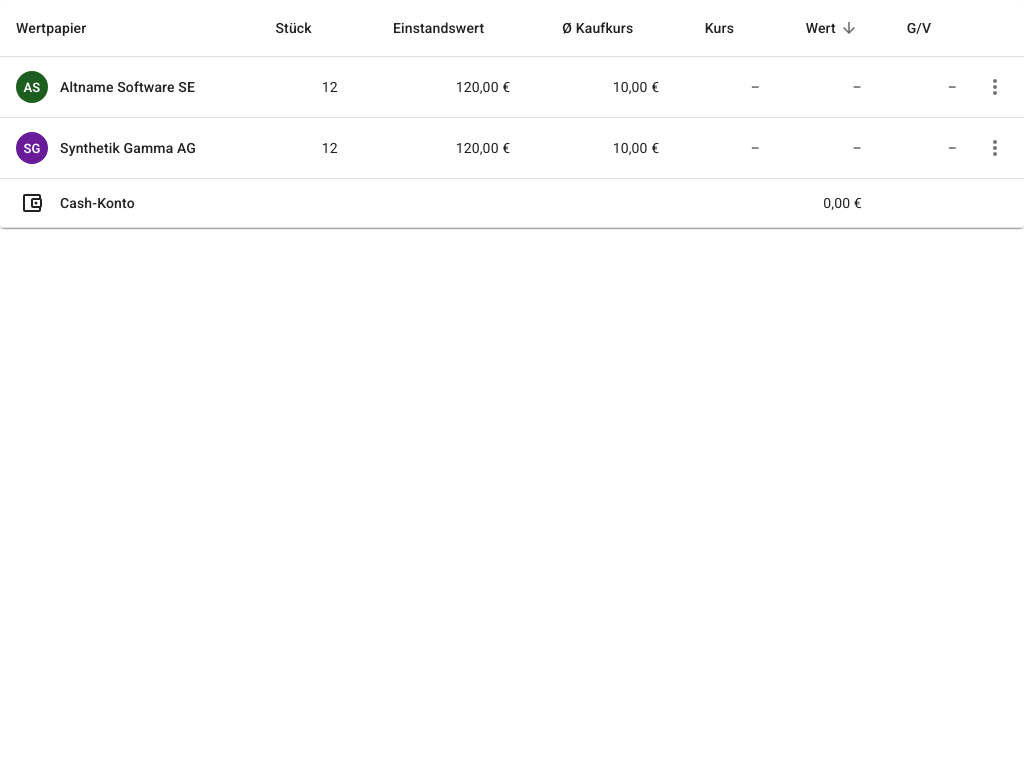
Test case: IsinChangeDialog from the Positions row menu › shows a field error under the matching field and keeps the input
Step 1. Click the button named "Aktionen für Altname Software SE" → (995, 87), box x1=973 y1=65 x2=1017 y2=109
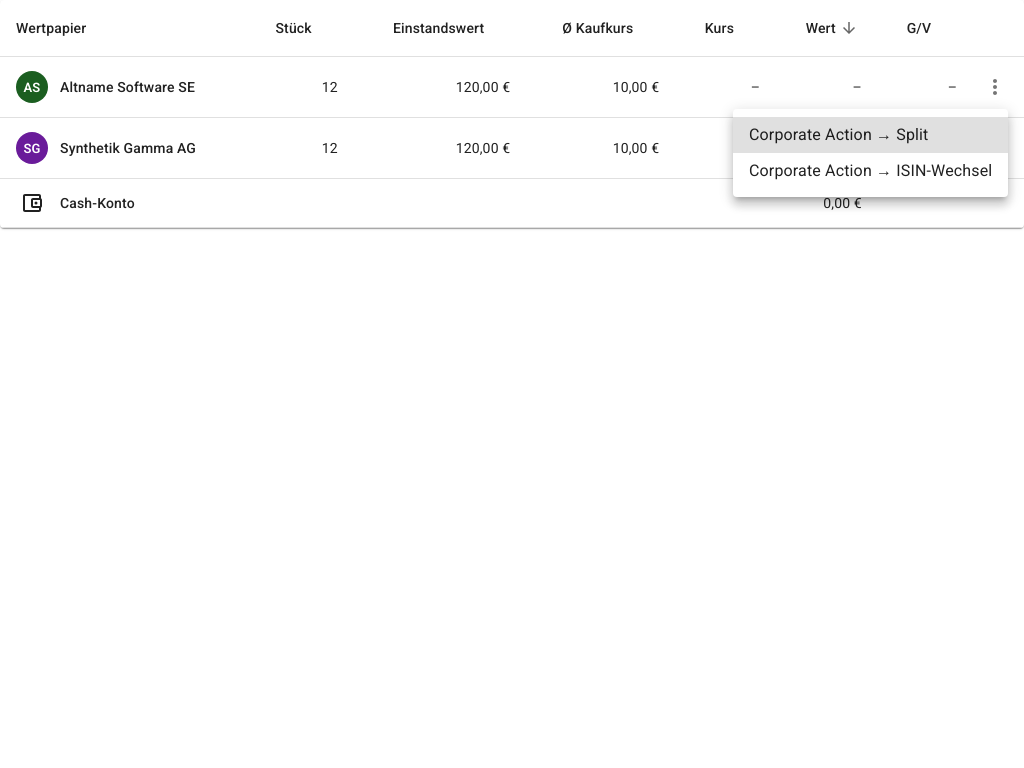
Step 2. Click the menu item "Corporate Action → ISIN-Wechsel" → (871, 170), box x1=749 y1=161 x2=992 y2=180
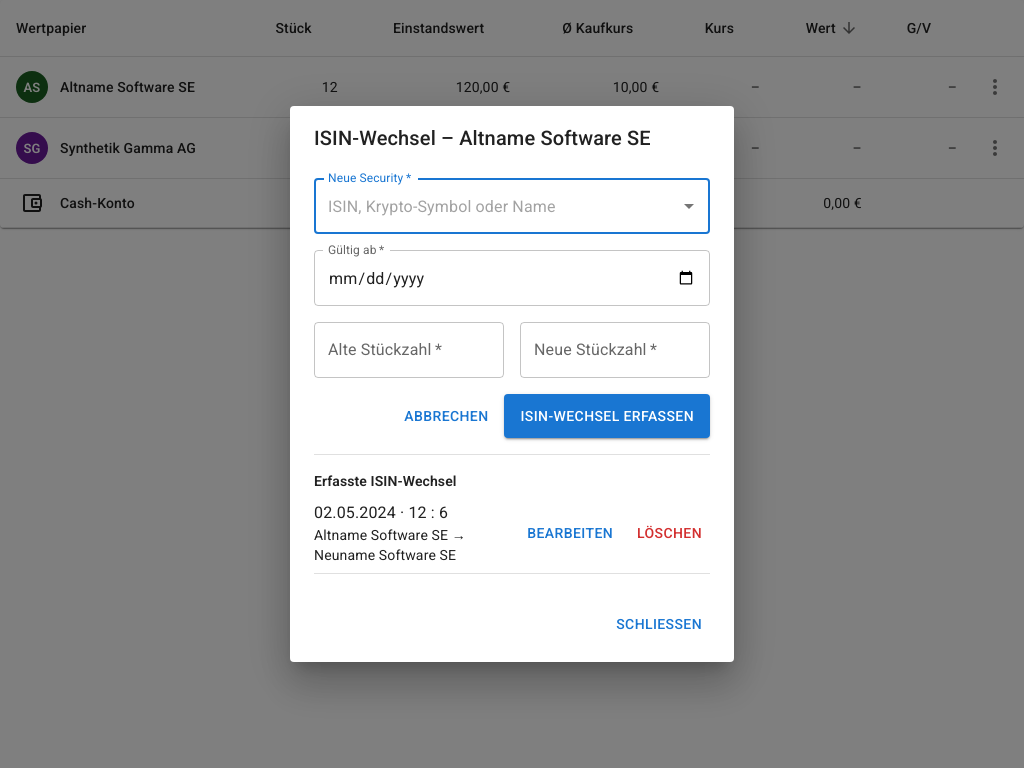
Step 3. Type "0" into the field labelled "Neue Stückzahl" → (615, 350), box x1=520 y1=322 x2=710 y2=378
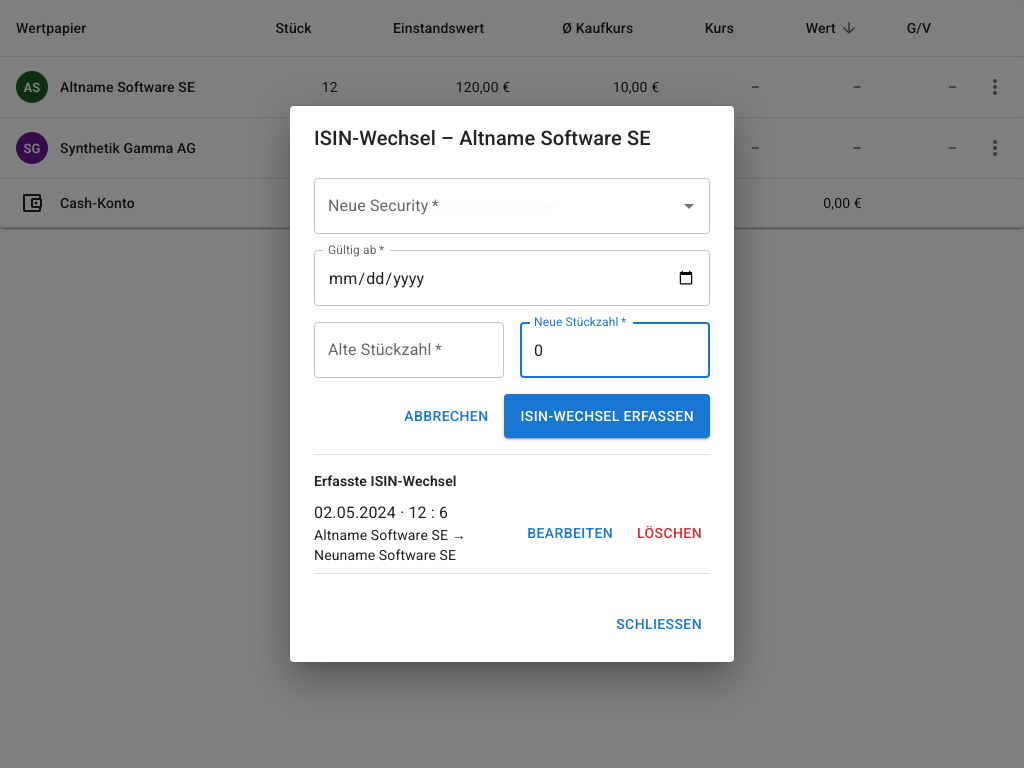
Step 4. Click the button "ISIN-Wechsel erfassen" → (607, 416), box x1=504 y1=394 x2=710 y2=438
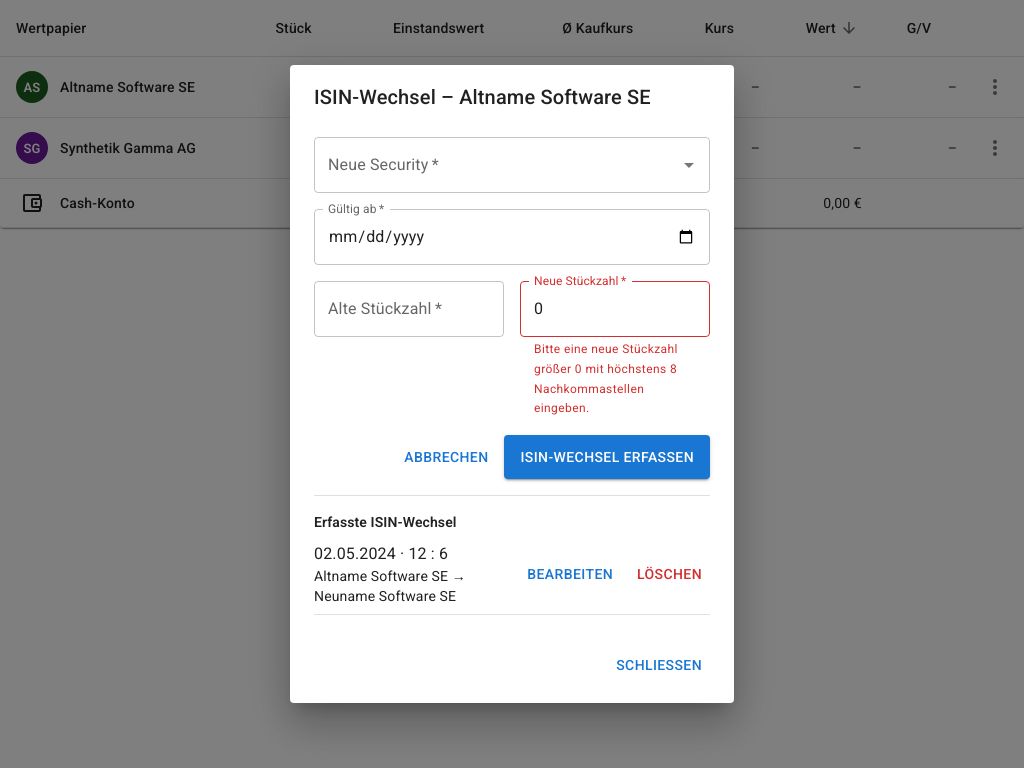
Result: the text "Bitte eine neue Stückzahl größer 0 mit höchstens 8 Nachkommastellen eingeben." is shown at x1=534 y1=340 x2=696 y2=419
